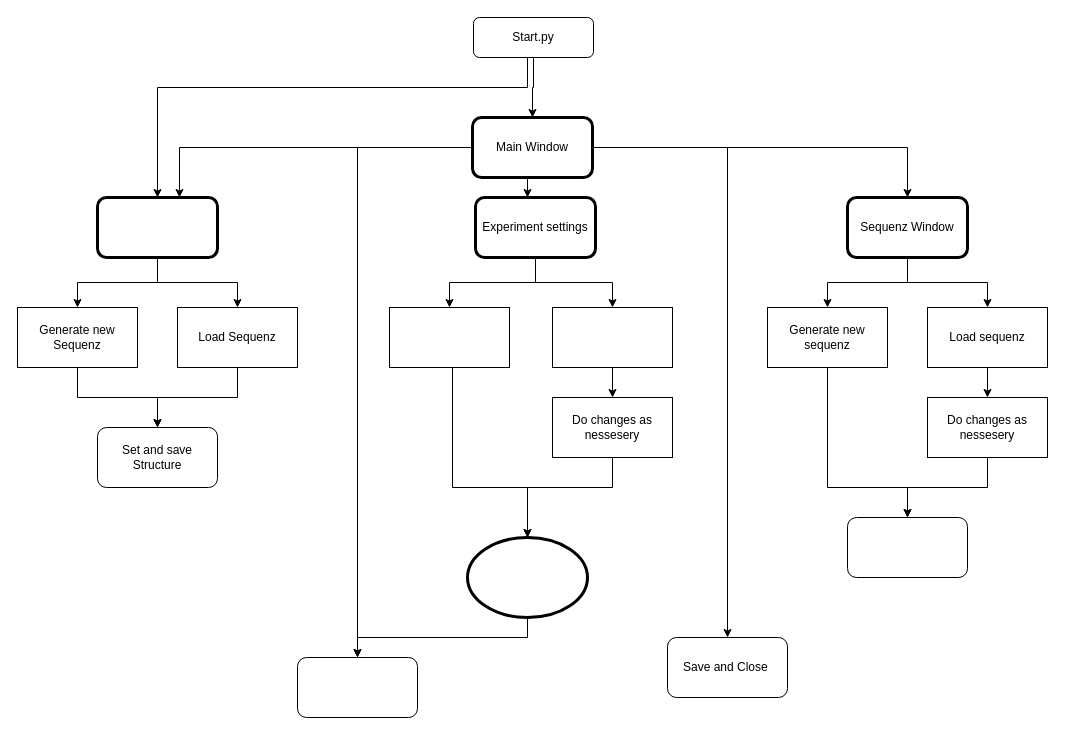
Some shapes in this 1065 by 735 pixel diagram are drawn without their labels. Here are the shapes that lost their labels. From the top down, the centre of each, then its label:
At [157,227]: "Experiment Filehandler".
At [449,337]: "Set new boundarys".
At [612,337]: "Load boundarys".
At [907,547]: "Save parameter to experiment structure".
At [527,577]: "RUN experiment".
At [357,687]: "Visualisation of data".
